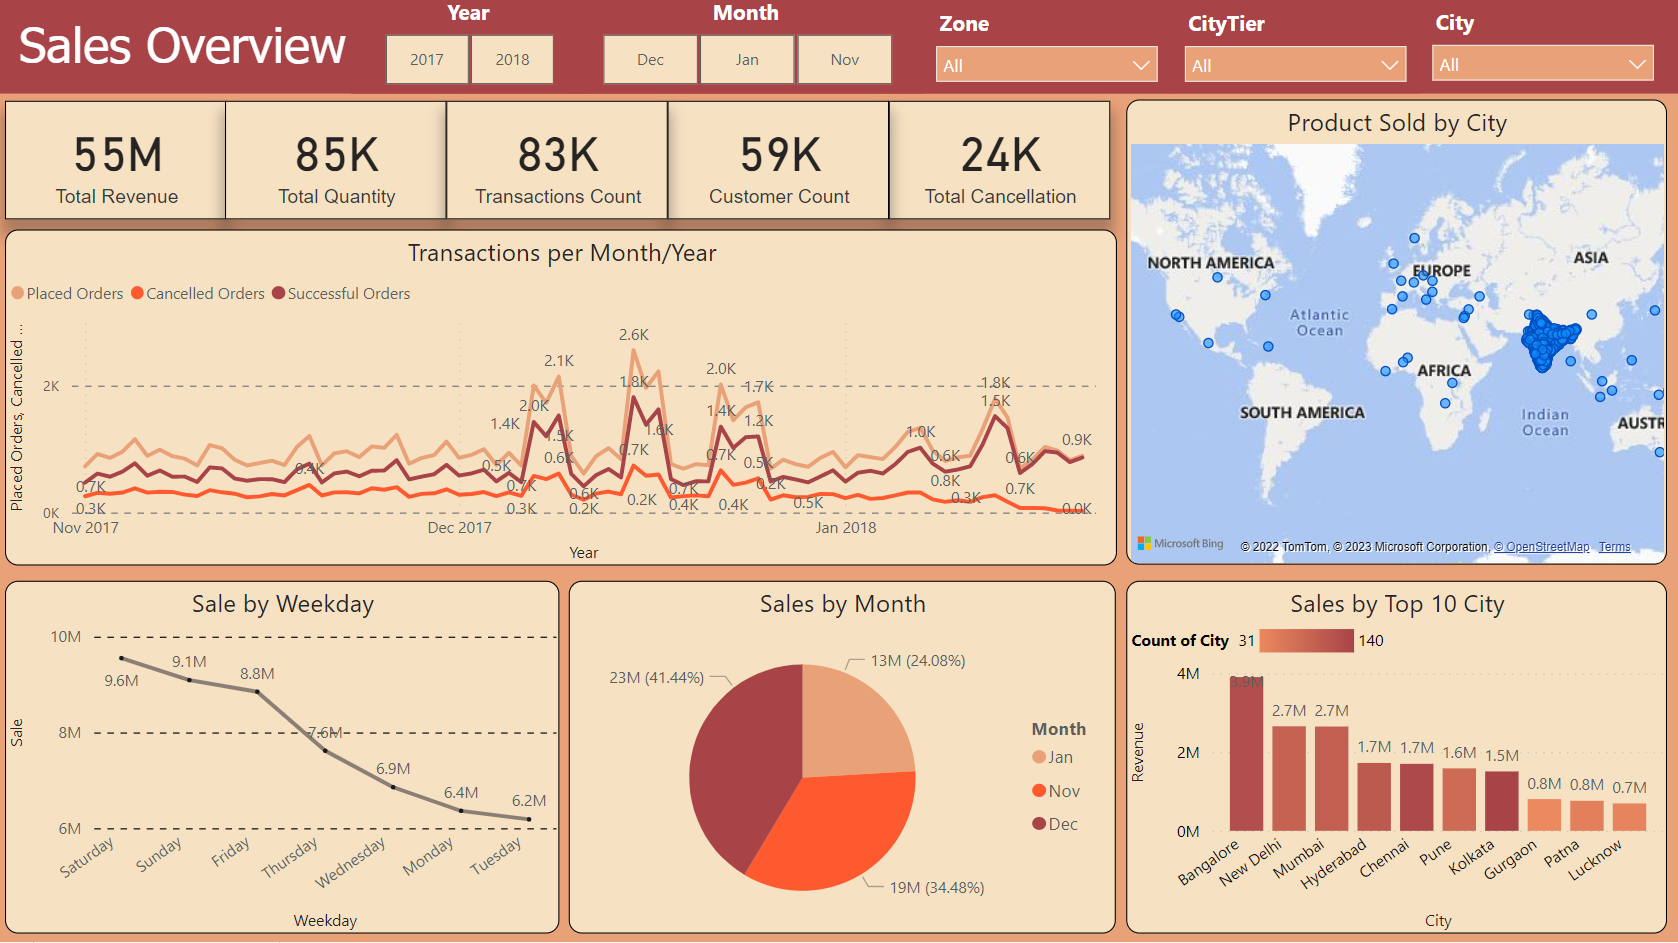

Layout of this report page (visuals, bound fields, positions):
{"tool":"powerbi","page":{"name":"Page 1","canvas":[1280,720],"ordinal":0},"visuals":[{"type":"shape","box":[0,0,1279.6,73.6],"z":1000},{"type":"textbox","box":[9.6,7.2,273.8,61.5],"z":2000},{"type":"slicer","title":"Month","fields":{"Values":["Sales.Month"]},"box":[433,0,270.2,73.6],"z":3000},{"type":"slicer","fields":{"Values":["PinCode-Geo.City"]},"box":[1080.6,2.4,189.3,69.9],"z":4000},{"type":"card","fields":{"Values":["Sum(Sales.Revenue)"]},"box":[3.8,78.8,169,90],"z":5000},{"type":"card","fields":{"Values":["Sum(Sales.Units)"]},"box":[171.2,78.8,169,90],"z":6000},{"type":"card","fields":{"Values":["Sum(Sales.Cancelled_Units)"]},"box":[677.5,78.8,168.8,90],"z":7000},{"type":"card","fields":{"Values":["Count(Sales.UserId)"]},"box":[508.8,78.8,168.8,90],"z":8000},{"type":"card","fields":{"Values":["CountNonNull(Sales.UserId)"]},"box":[340,78.8,168.8,90],"z":9000},{"type":"slicer","fields":{"Values":["CityTier.CityTier"]},"box":[892.5,3.6,189.3,69.9],"z":10000},{"type":"slicer","fields":{"Values":["PinCode-Geo.Zone"]},"box":[703.1,3.6,189.3,69.9],"z":11000},{"type":"slicer","title":"Year","fields":{"Values":["Sales.Year"]},"box":[267.7,0,178.5,73.6],"z":12000},{"type":"lineChart","fields":{"Category":["Date.Weekday"],"Y":["key measures.sale"]},"box":[3.6,445,422,268.9],"z":13000},{"type":"pieChart","title":"Sales by Month","fields":{"Category":["Date.MonthName"],"Y":["Sum(Sales.Revenue)"]},"box":[433.2,445.1,416.5,269],"z":14000},{"type":"lineChart","title":"Transactions per Month/Year","fields":{"Y":["Sum(Sales.Units)","Sum(Sales.Cancelled_Units)","Sum(Sales.Net_Units)"],"Category":["Date.Date.Variation.Date Hierarchy.Year","Date.Date.Variation.Date Hierarchy.Quarter","Date.Date.Variation.Date Hierarchy.Month","Date.Date.Variation.Date Hierarchy.Day"]},"box":[3.6,177.3,847.3,255.9],"z":15000},{"type":"columnChart","title":"Sales by Top 10 City","fields":{"Category":["PinCode-Geo.City"],"Y":["Sum(Sales.Revenue)"]},"box":[858,445.1,411.8,269],"z":16000},{"type":"map","fields":{"Category":["PinCode-Geo.City"]},"box":[858,78.5,411.8,354.6],"z":17000}]}

Visuals, with their boxes in screenshot pixels (x1, y1, x2, y2), scaled from the page's 1280x720 canvas onto the 1678x943 screenshot:
shape: (left=0, top=0, right=1677, bottom=96)
textbox: (left=13, top=9, right=372, bottom=90)
"Month" slicer: (left=568, top=0, right=922, bottom=96)
slicer - PinCode-Geo.City: (left=1417, top=3, right=1665, bottom=95)
card - Sum(Sales.Revenue): (left=5, top=103, right=227, bottom=221)
card - Sum(Sales.Units): (left=224, top=103, right=446, bottom=221)
card - Sum(Sales.Cancelled_Units): (left=888, top=103, right=1109, bottom=221)
card - Count(Sales.UserId): (left=667, top=103, right=888, bottom=221)
card - CountNonNull(Sales.UserId): (left=446, top=103, right=667, bottom=221)
slicer - CityTier.CityTier: (left=1170, top=5, right=1418, bottom=96)
slicer - PinCode-Geo.Zone: (left=922, top=5, right=1170, bottom=96)
"Year" slicer: (left=351, top=0, right=585, bottom=96)
lineChart - Date.Weekday x key measures.sale: (left=5, top=583, right=558, bottom=935)
"Sales by Month" pieChart: (left=568, top=583, right=1114, bottom=935)
"Transactions per Month/Year" lineChart: (left=5, top=232, right=1115, bottom=567)
"Sales by Top 10 City" columnChart: (left=1125, top=583, right=1665, bottom=935)
map - PinCode-Geo.City: (left=1125, top=103, right=1665, bottom=567)
